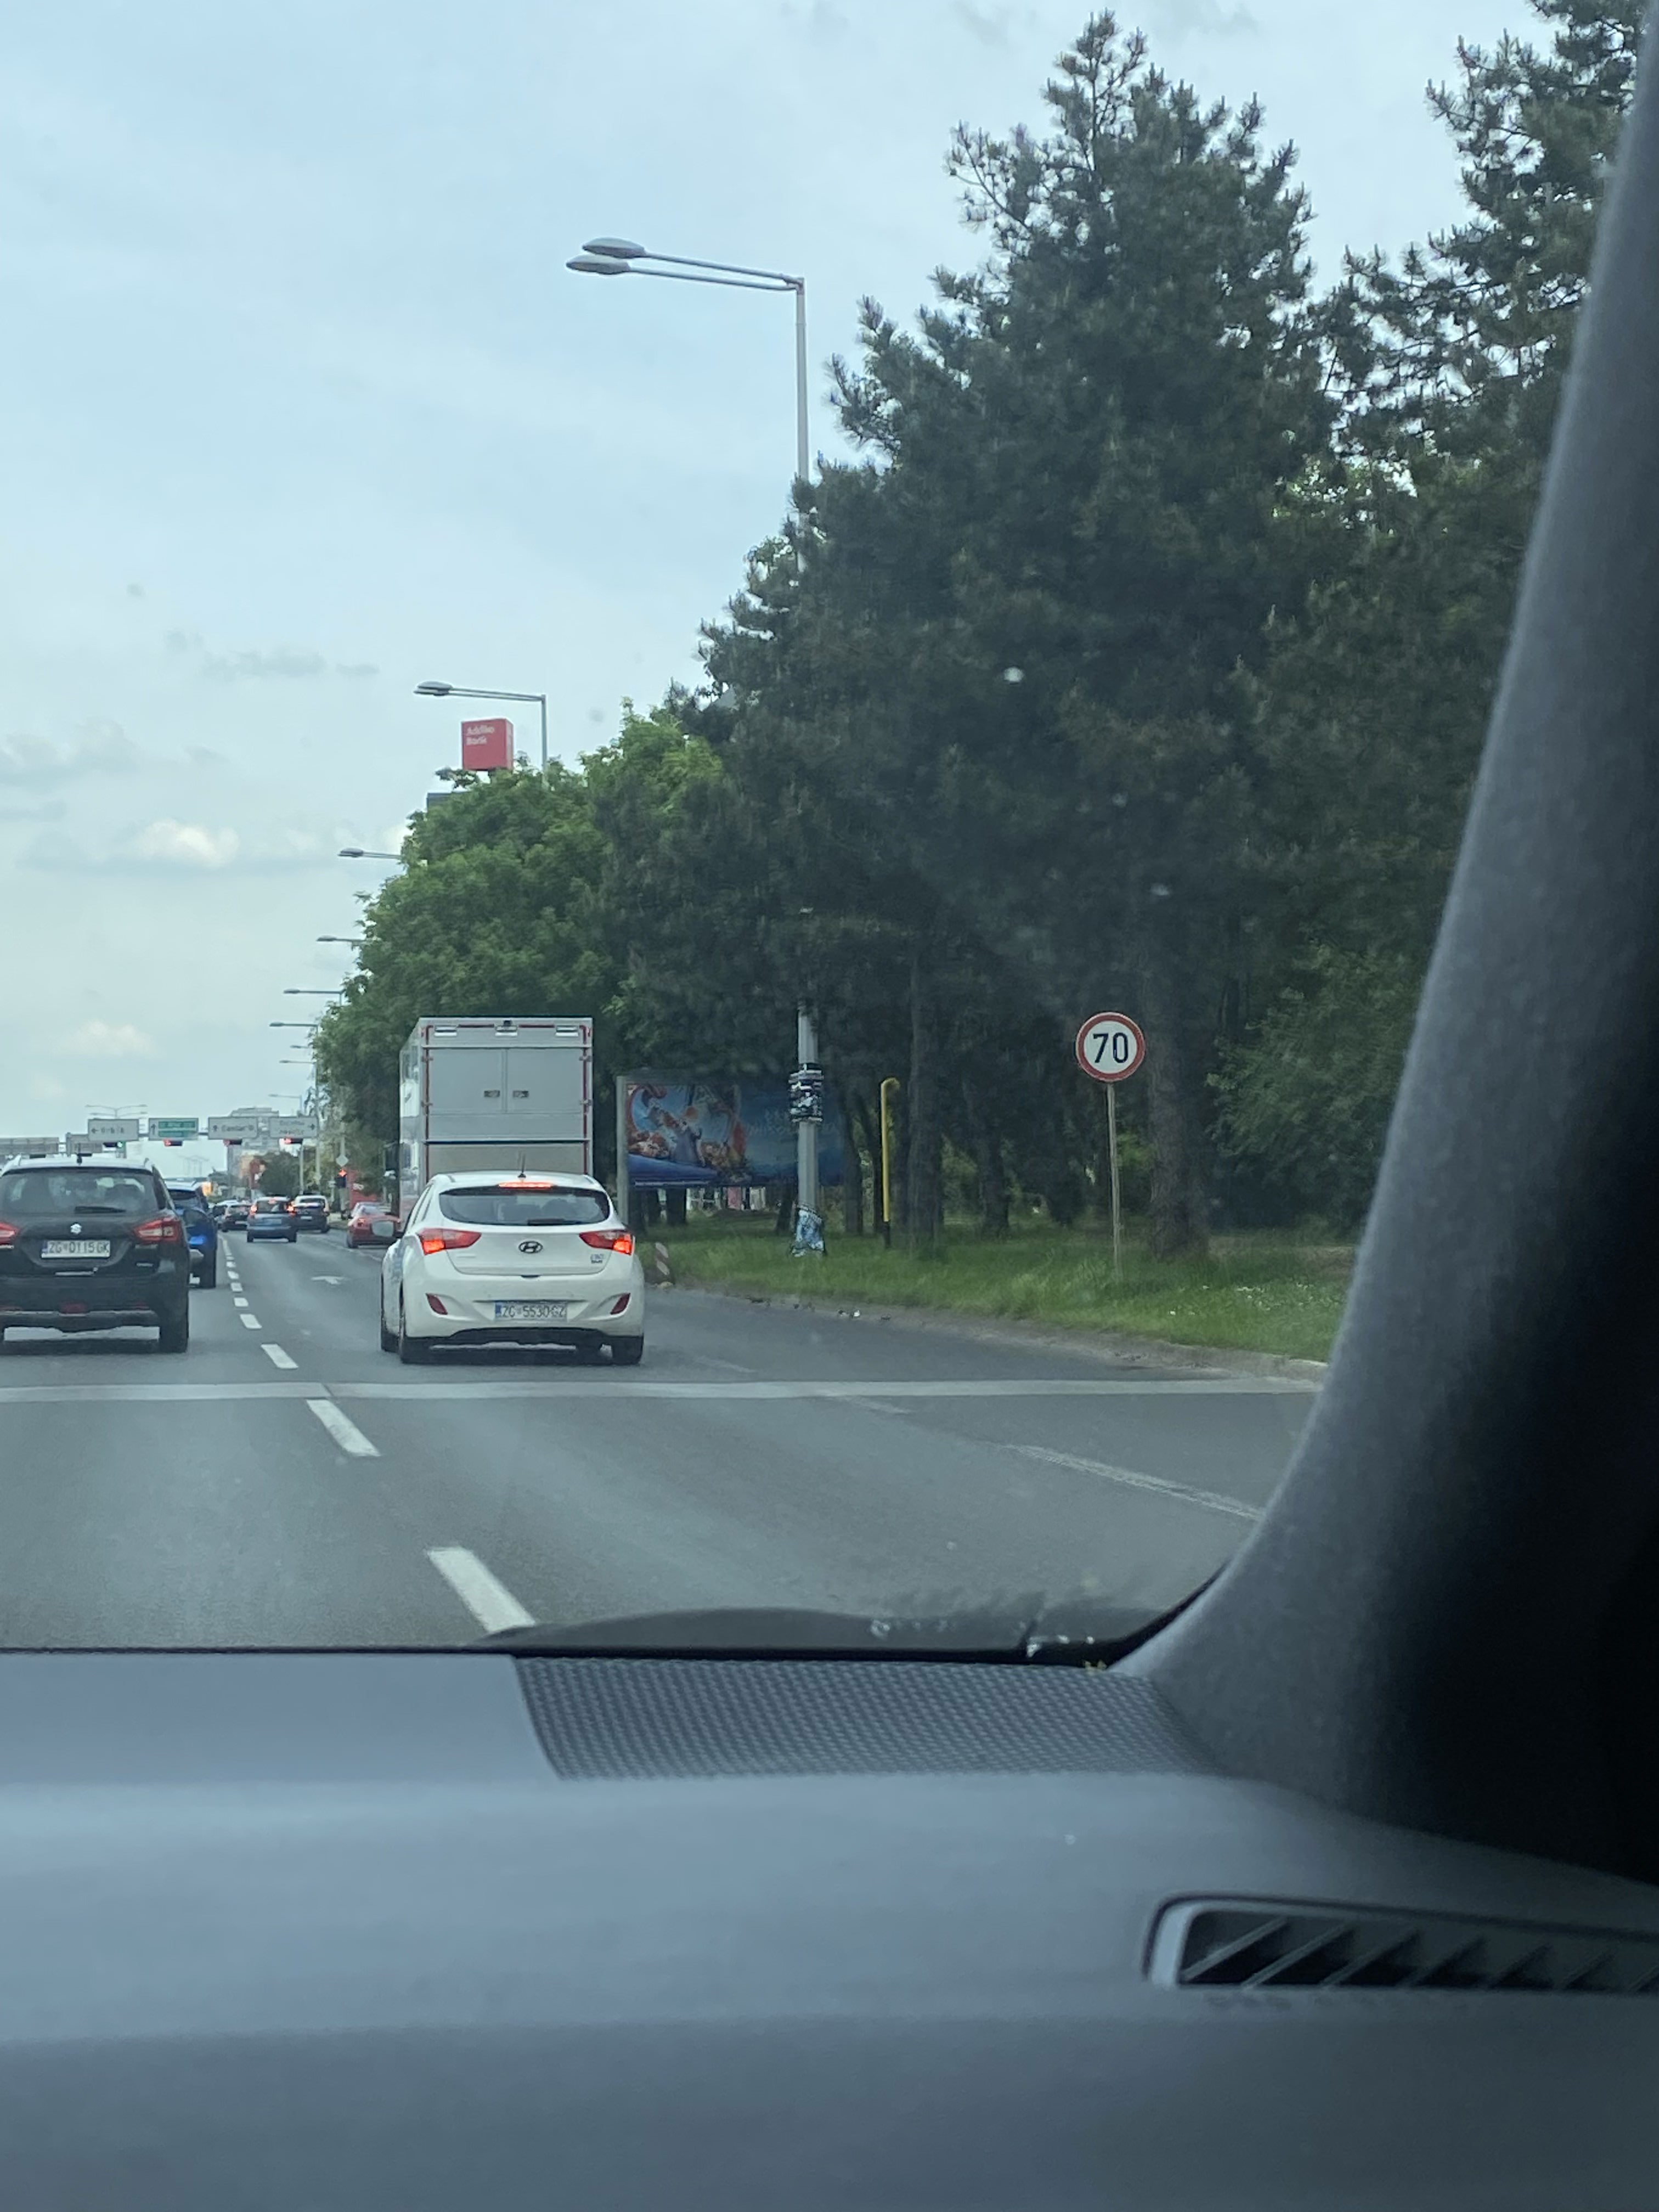Ograničenje brzine 70: (1075, 1012, 1145, 1082)
